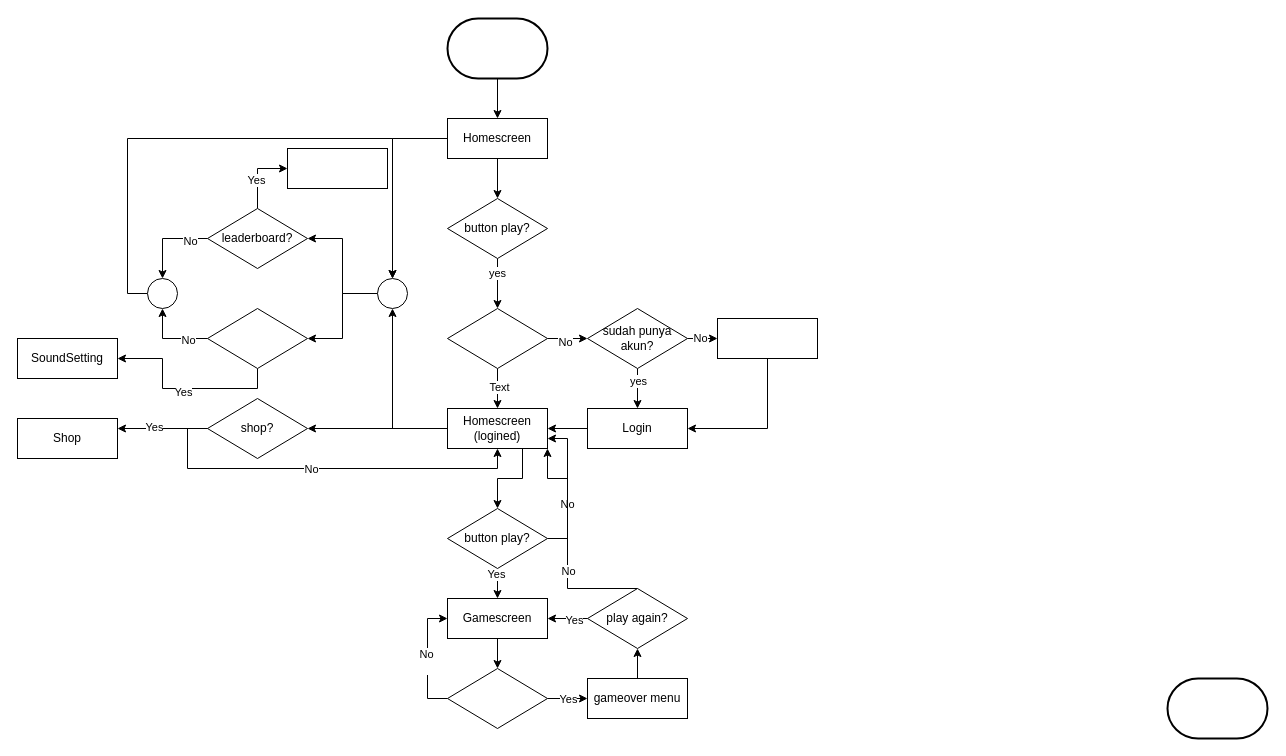
Some shapes in this 1286 by 756 pixel diagram are drawn without their labels. The shapes that lost their labels are listed below. From the top down, each one's box as (x1, y1, x2, y2) in pixels, then its label:
(446, 17, 548, 79): start
(286, 148, 388, 188): Leaderboard
(206, 308, 308, 368): sound settings?
(446, 308, 548, 368): sudah login?
(716, 318, 818, 358): Register
(446, 668, 548, 728): death?
(1166, 677, 1268, 739): end
